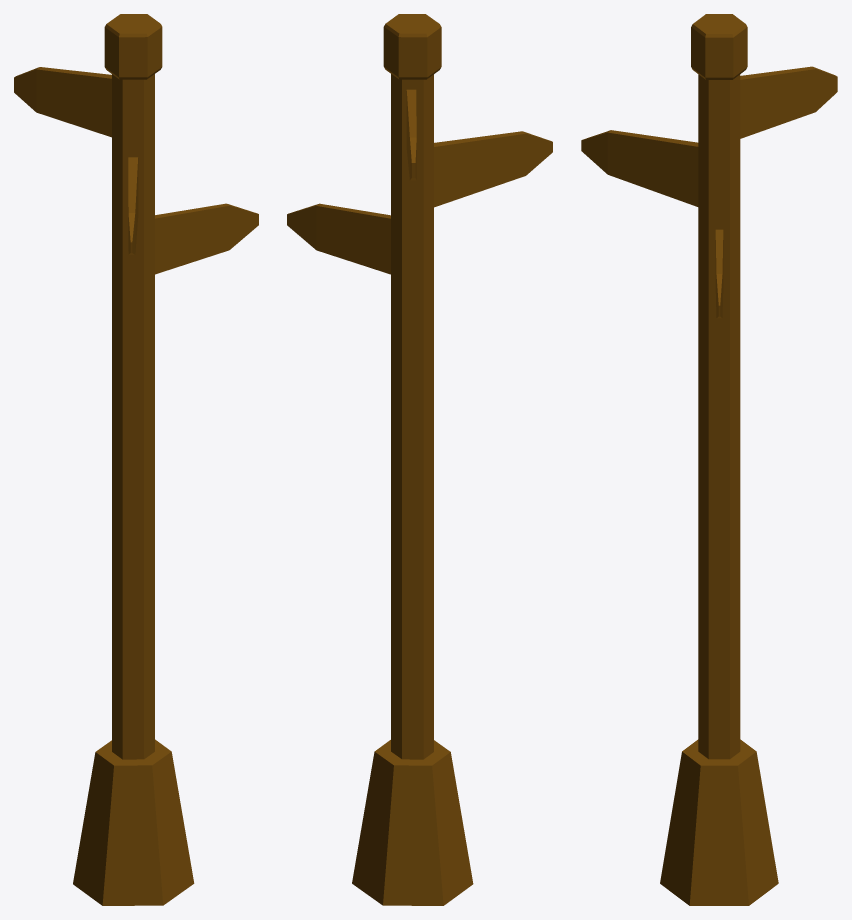
The model's file is Direction sign.fbx.
3 renders of one model, left to right at view 1: azimuth 30°, elevation 25°; view 2: azimuth 150°, elevation 25°; view 3: azimuth 270°, elevation 25°, orthographic.
Parts seen in each view (by area): view 1: Direction Sign; view 2: Direction Sign; view 3: Direction Sign.
Boxes of the visible parts, x1=… form: Direction Sign: x1=14, y1=14, x2=258, y2=905; Direction Sign: x1=287, y1=14, x2=552, y2=905; Direction Sign: x1=581, y1=14, x2=837, y2=905.
Size of the model in its own units: 264 by 1103 by 298.
